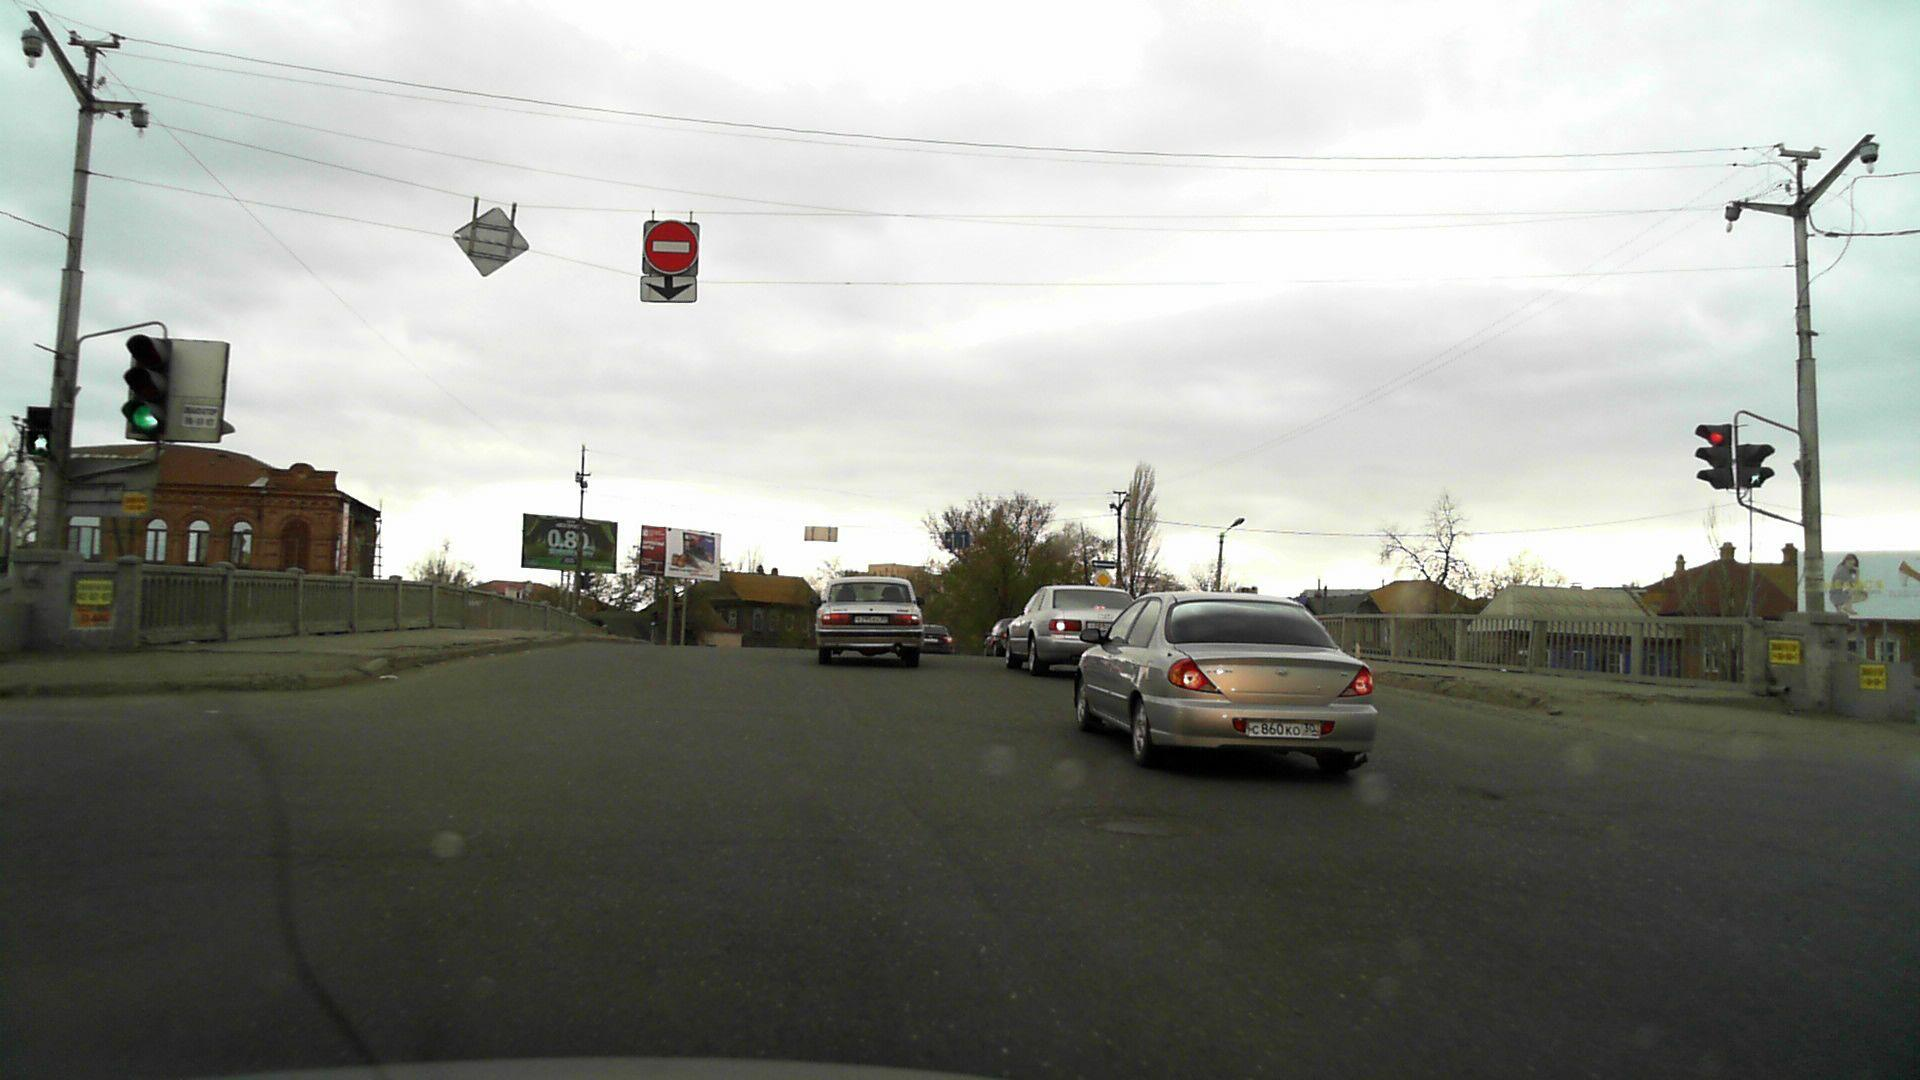2_1: (1091, 570, 1113, 588)
3_1: (645, 220, 699, 273)
5_15_1: (942, 529, 971, 550)
5_7_2: (1091, 559, 1116, 570)
8_14: (641, 274, 698, 303)
